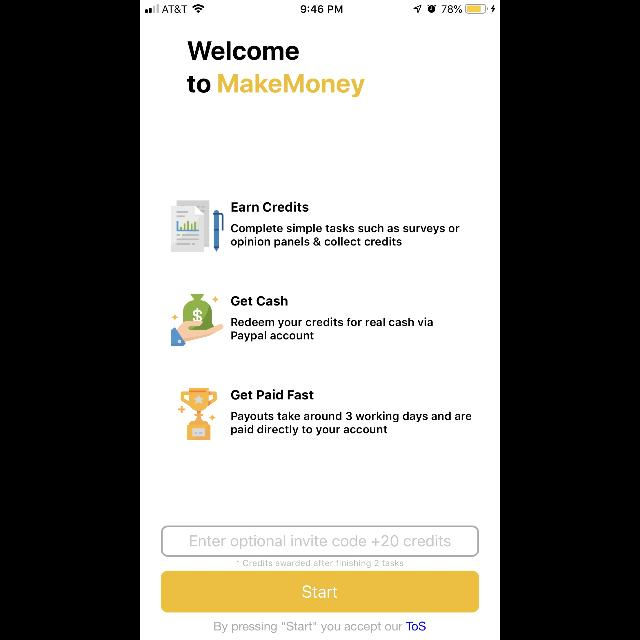image: (172, 294, 224, 346), (172, 200, 224, 252), (178, 388, 218, 440)
input: (161, 526, 479, 556)
text: (188, 41, 364, 98), (231, 411, 471, 435), (232, 224, 460, 248), (231, 318, 433, 342), (191, 535, 451, 549), (214, 621, 426, 633), (236, 560, 404, 568), (230, 388, 314, 399), (232, 202, 308, 212), (232, 296, 288, 306)
textbutton: (161, 571, 479, 613)
uppertaskbar: (140, 0, 500, 14)
